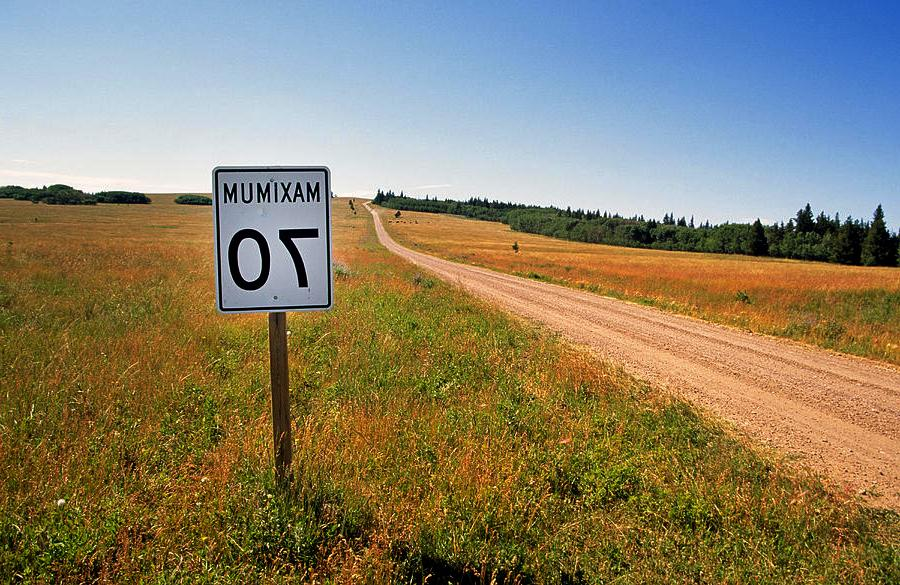speed limit sign: (209, 166, 335, 314)
